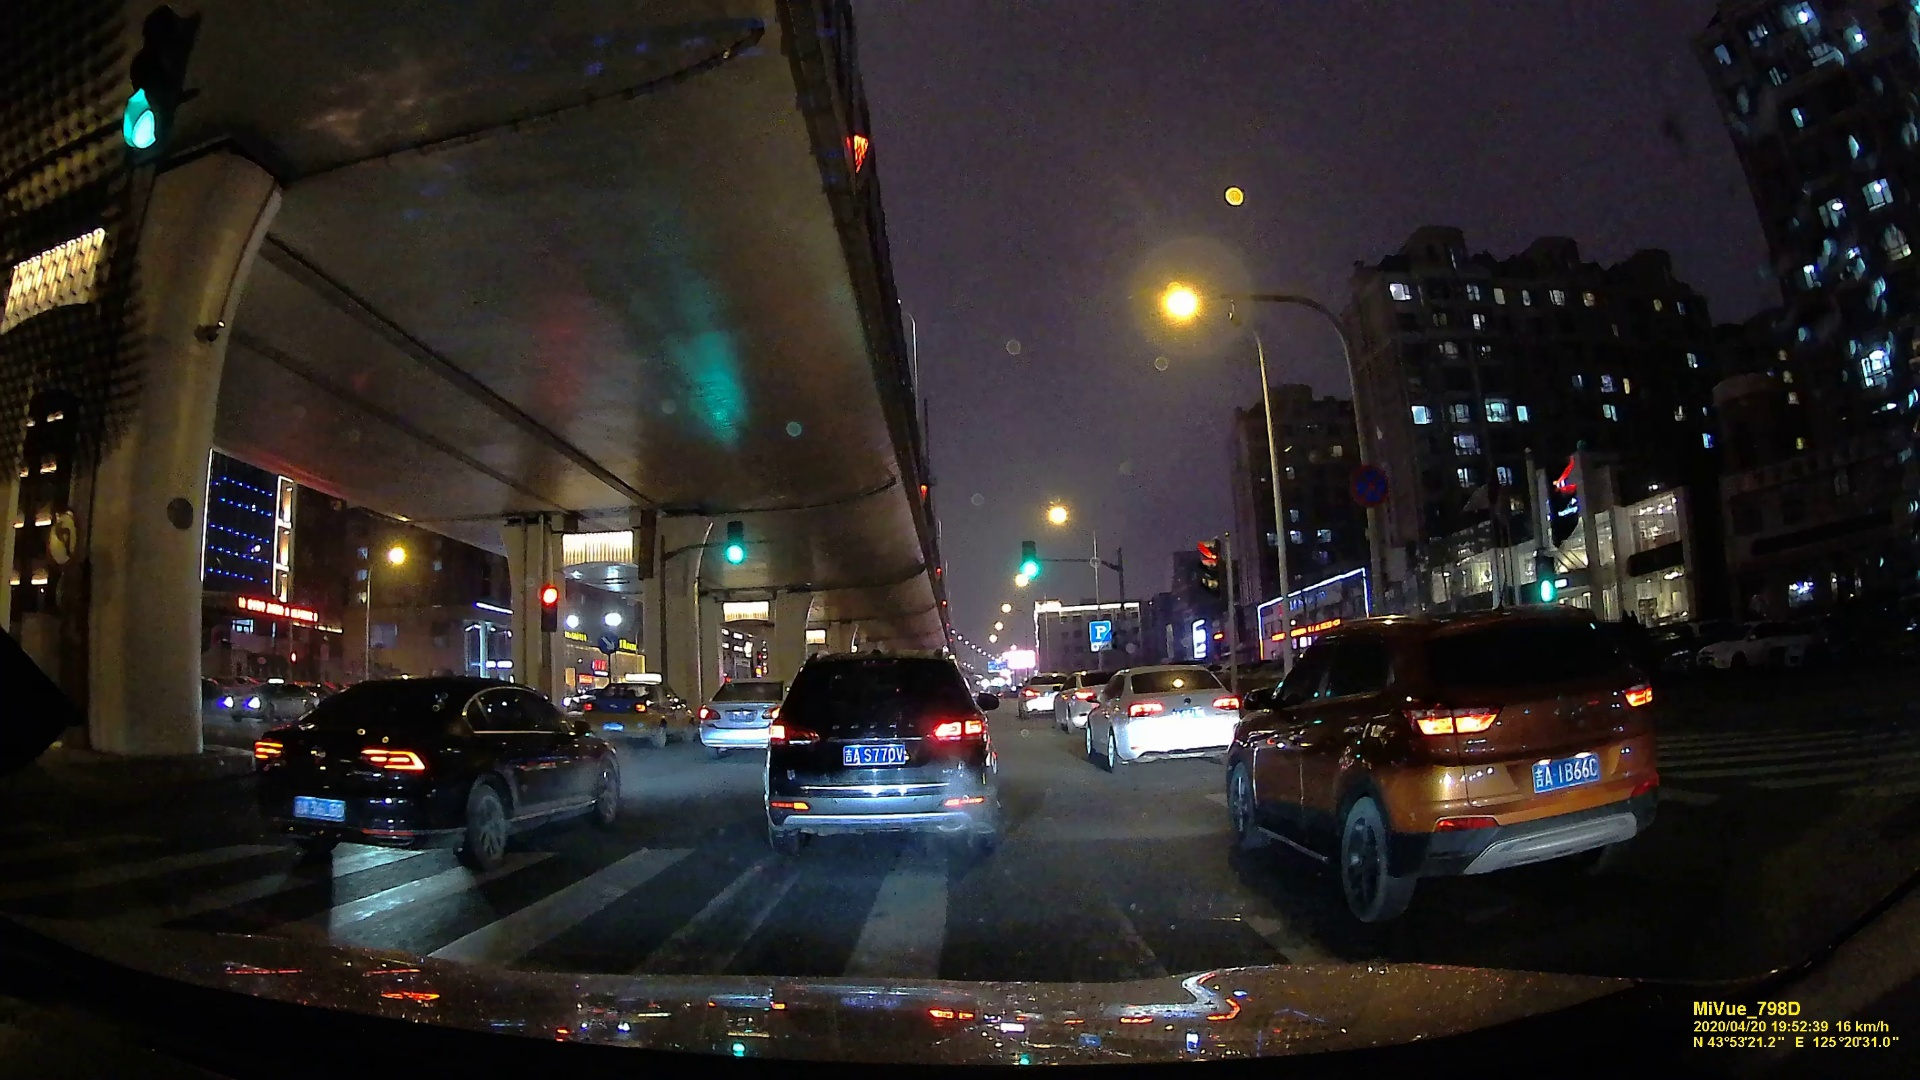traffic_sign: (116, 5, 187, 154), (1540, 444, 1584, 546), (1192, 539, 1226, 605), (1350, 464, 1391, 505), (1532, 555, 1560, 601), (538, 585, 559, 632), (725, 518, 745, 567), (1021, 539, 1040, 578), (1089, 618, 1112, 650), (595, 632, 620, 654)
vehicle: (1233, 603, 1683, 928), (251, 669, 644, 876), (760, 646, 1007, 864), (1087, 661, 1240, 762), (694, 676, 773, 760), (582, 684, 688, 742), (222, 679, 314, 723)
